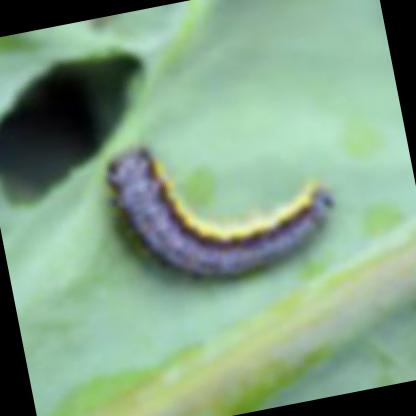pieris: (113, 149, 339, 282)
